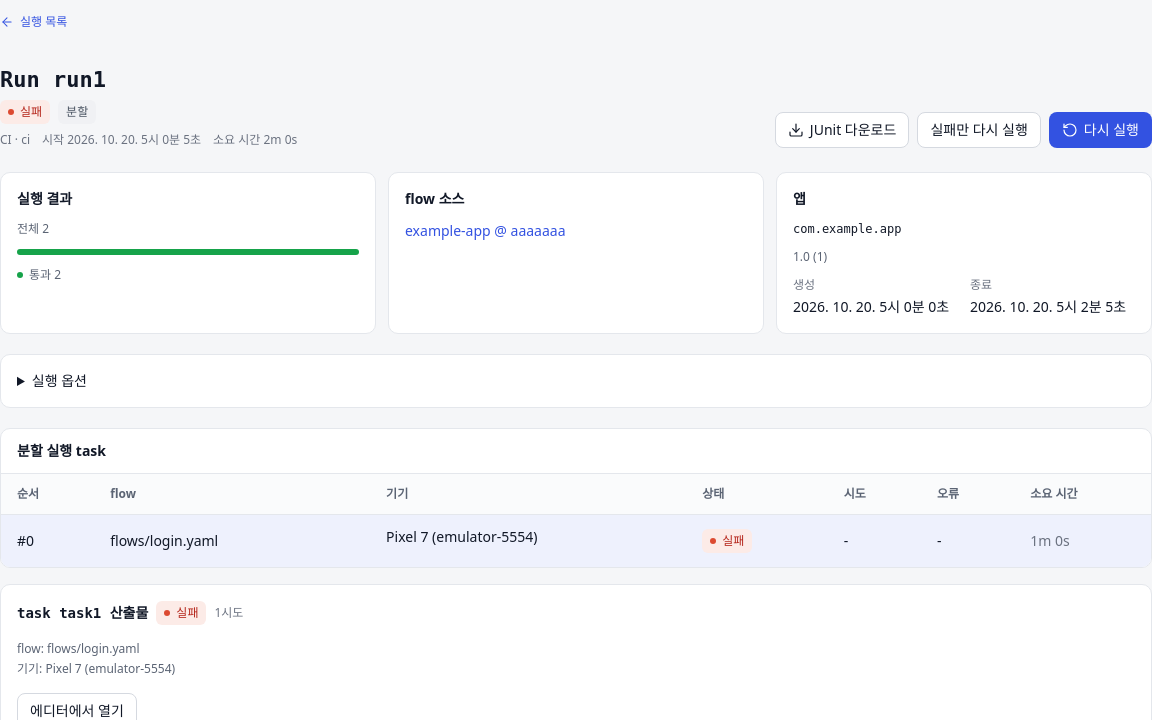
Test: 다시 실행 posts the exact re-run payload and navigates
This screenshot has width=1152, height=720.
Click the button "다시 실행". click: (1100,130)
box: [1049,112,1151,148]
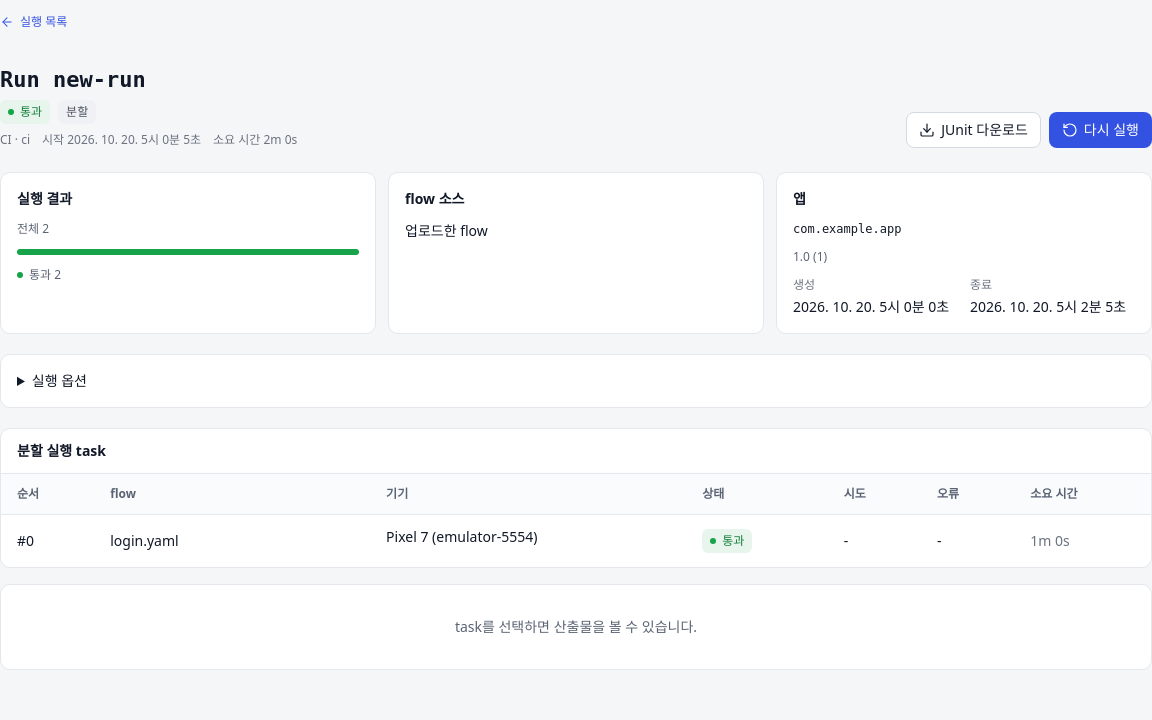
Expected: the heading "Run new-run" is shown, [0,67,146,92]
